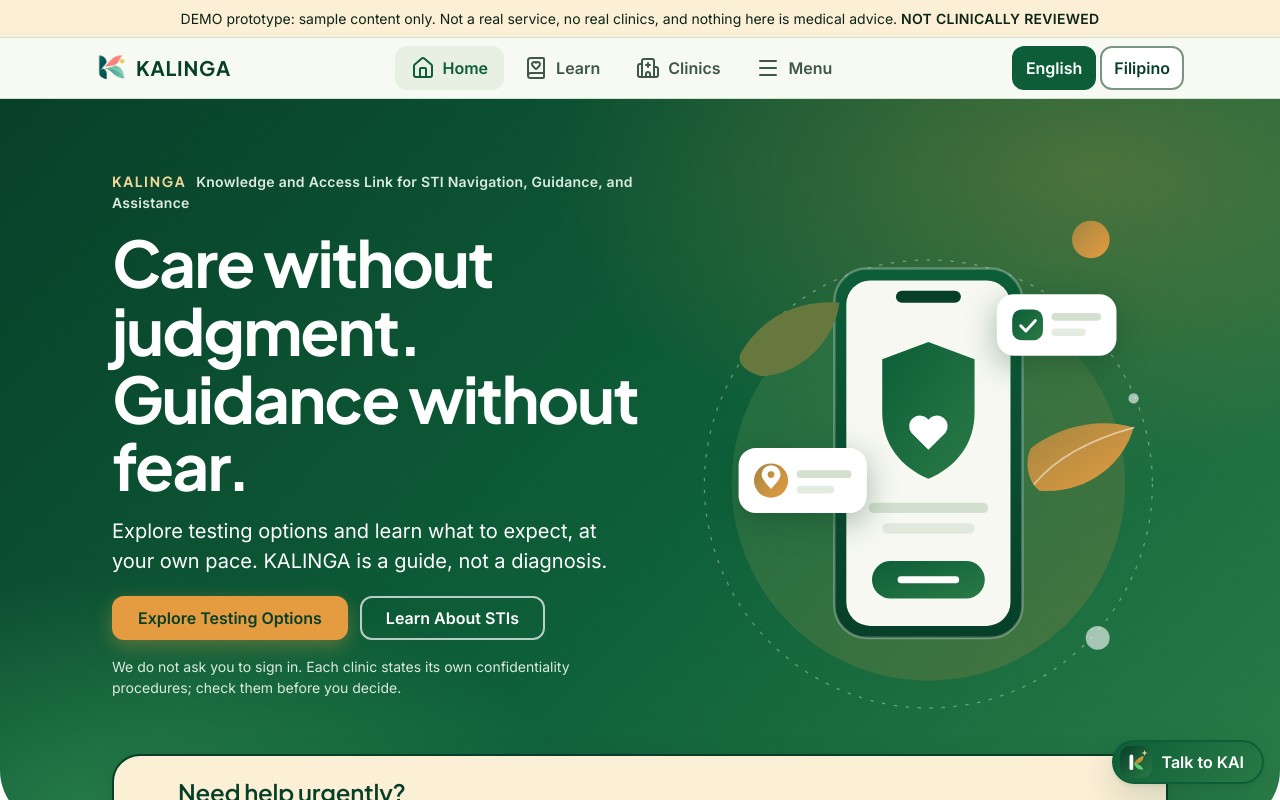
Scenario: conversation › answers a quick reply with route links that use the router
The image size is (1280, 800).
Click the button "Talk to KAI".
click(1188, 762)  # box [1112,740,1264,784]
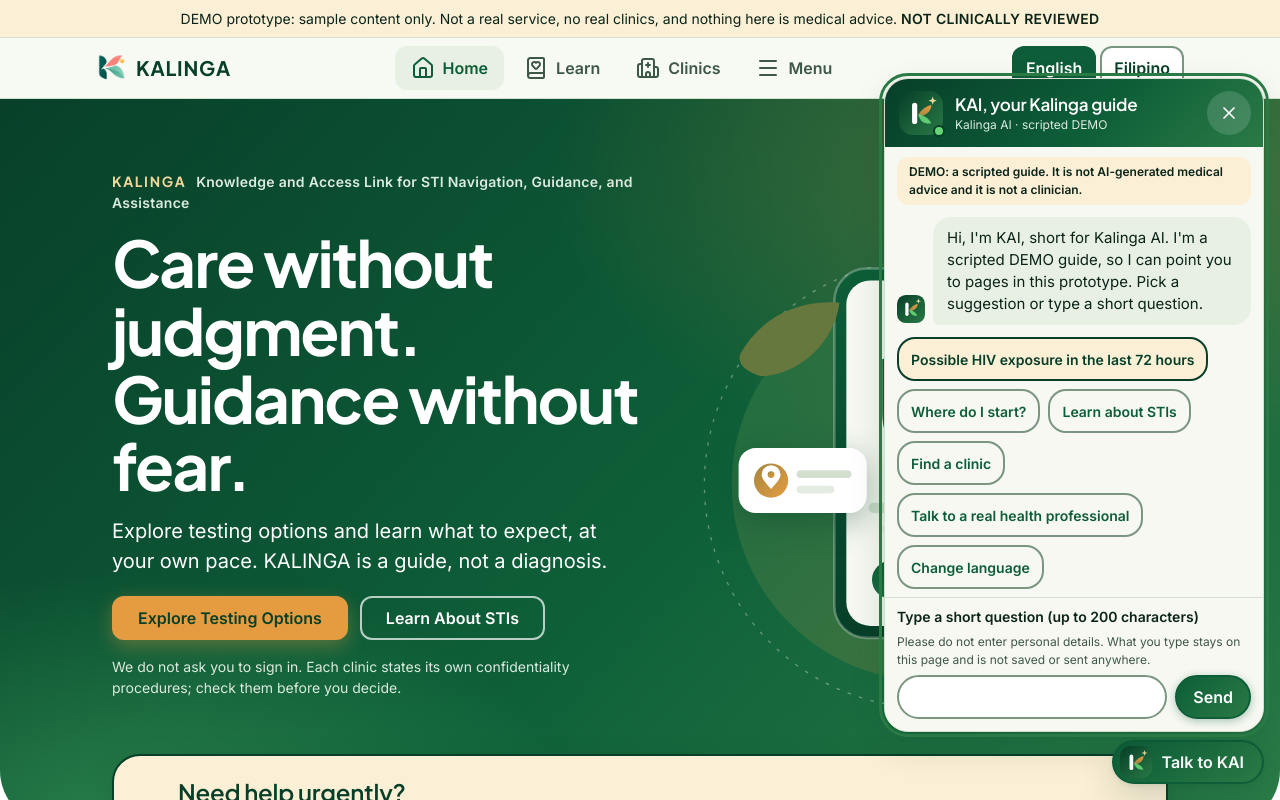
Click the button "Find a clinic".
click(951, 463)  # box [897,441,1005,485]
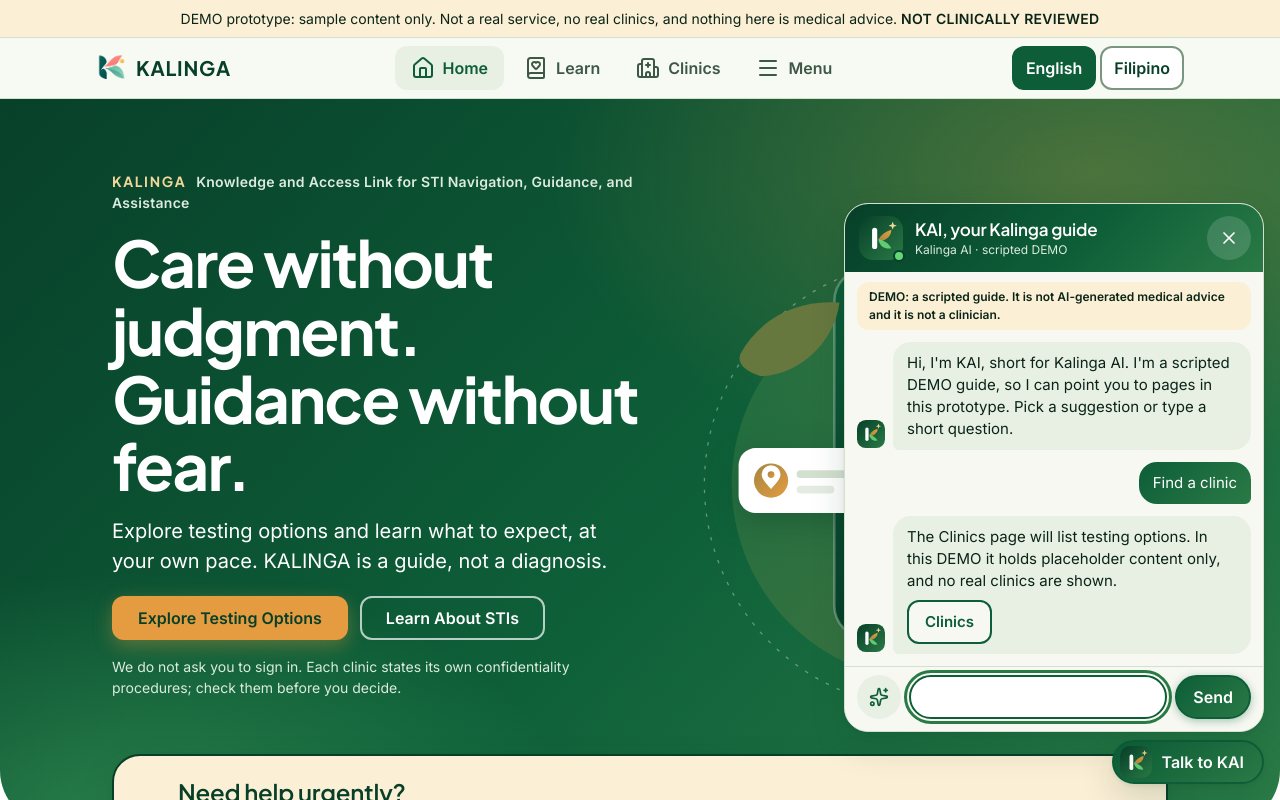
Check: the element named "Conversation" shows "Clinics page will list testing options", box [907,527,1221,590]
Click the link "Clinics" below "Find a clinic".
click(950, 622)  # box [907,600,992,644]
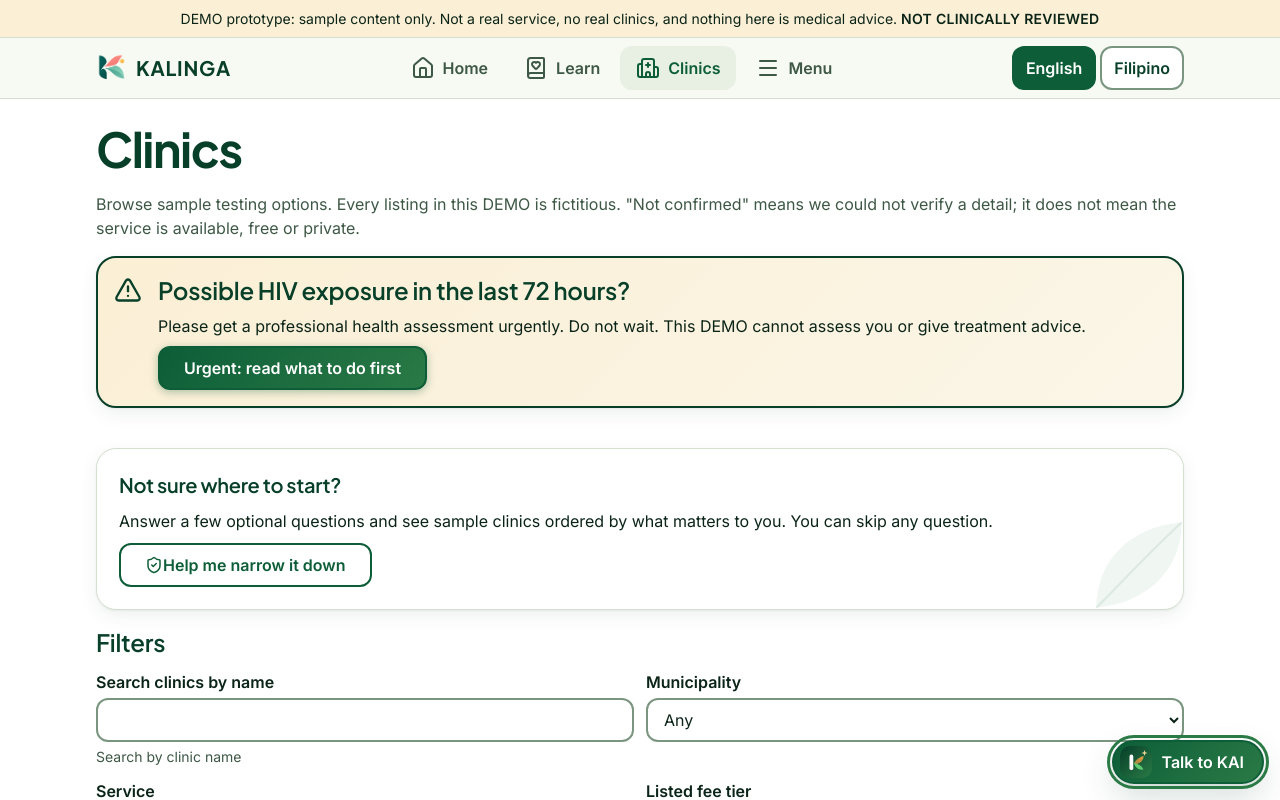
Check: the heading "Clinics" is shown, box [96,118,242,179]
Check: the dialog is gone
